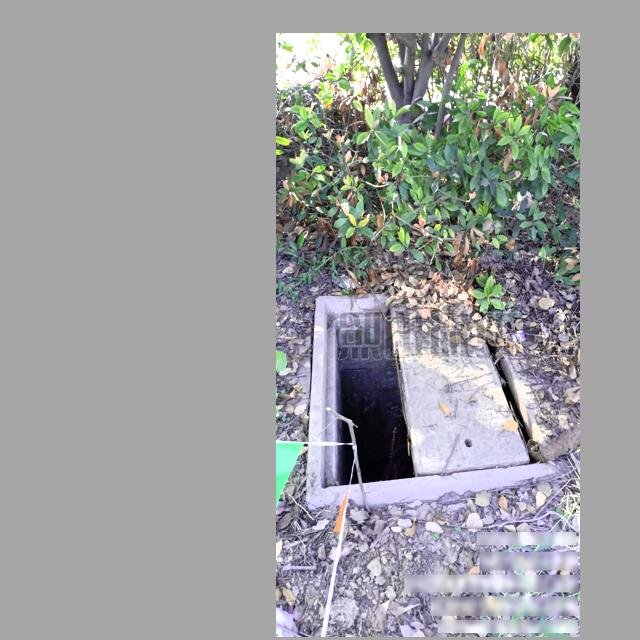lose: (305, 282, 578, 508)
